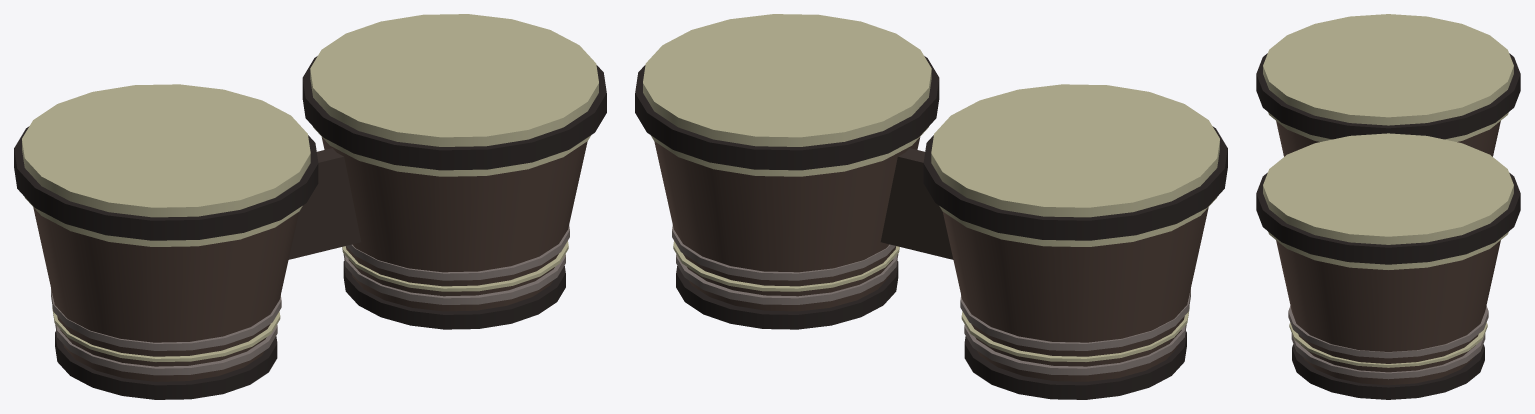
The model's file is colored drums.fbx.
3 views of the same model, side by side, from view 1: azimuth 30°, elevation 25°; view 2: azimuth 150°, elevation 25°; view 3: azimuth 270°, elevation 25° (orthographic). The views are drawn at different scales.
Visible parts, largest first — view 1: pCylinder15, pCylinder16, pCylinder17, pCylinder18, pCylinder20, pCube1, pCylinder19; view 2: pCylinder15, pCylinder16, pCylinder17, pCylinder18, pCylinder20, pCube1, pCylinder19; view 3: pCylinder15, pCylinder16, pCylinder17, pCylinder18, pCylinder20, pCylinder19.
Boxes of the visible parts, x1,y1,x2,y2 form: pCylinder15: [22, 14, 598, 246]; pCylinder16: [33, 137, 587, 381]; pCylinder17: [14, 56, 606, 240]; pCylinder18: [55, 260, 565, 399]; pCylinder20: [51, 225, 569, 375]; pCube1: [288, 148, 361, 259]; pCylinder19: [52, 241, 568, 361]; pCylinder15: [643, 14, 1219, 246]; pCylinder16: [654, 137, 1208, 381]; pCylinder17: [635, 56, 1227, 240]; pCylinder18: [676, 260, 1186, 399]; pCylinder20: [672, 225, 1190, 375]; pCube1: [880, 148, 953, 259]; pCylinder19: [673, 241, 1189, 361]; pCylinder15: [1263, 14, 1513, 269]; pCylinder16: [1276, 121, 1500, 385]; pCylinder17: [1256, 53, 1520, 264]; pCylinder18: [1292, 344, 1484, 399]; pCylinder20: [1288, 306, 1488, 379]; pCylinder19: [1289, 323, 1487, 367].
Bounding box in the file's own units: 0.6626 × 0.2371 × 0.3243.
